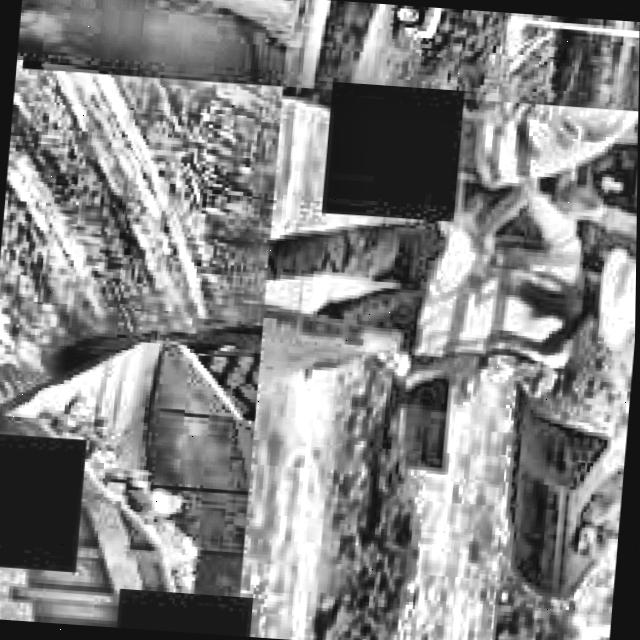buldozerpayloadergrader: (27, 296, 262, 636)
dump_truck: (0, 321, 258, 635)
excavator: (377, 95, 639, 606)
